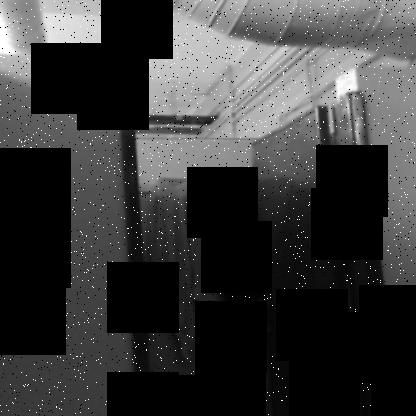Porte: (118, 89, 399, 416)
